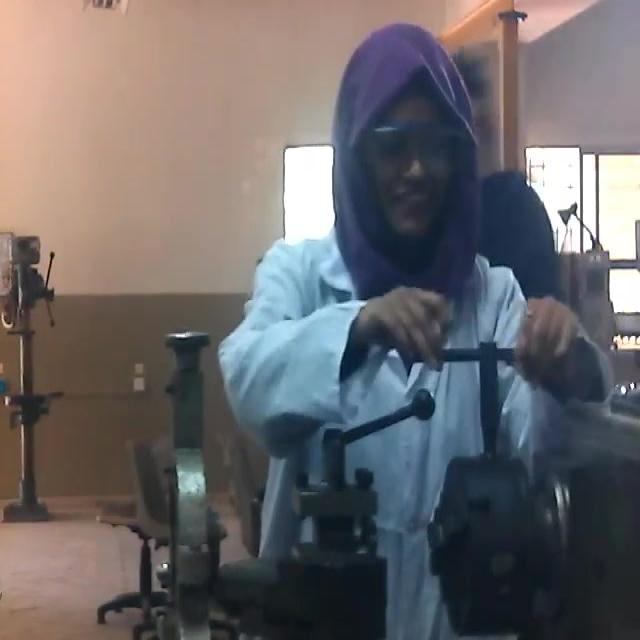googles: (361, 118, 469, 182)
labcoat: (221, 216, 616, 640)
